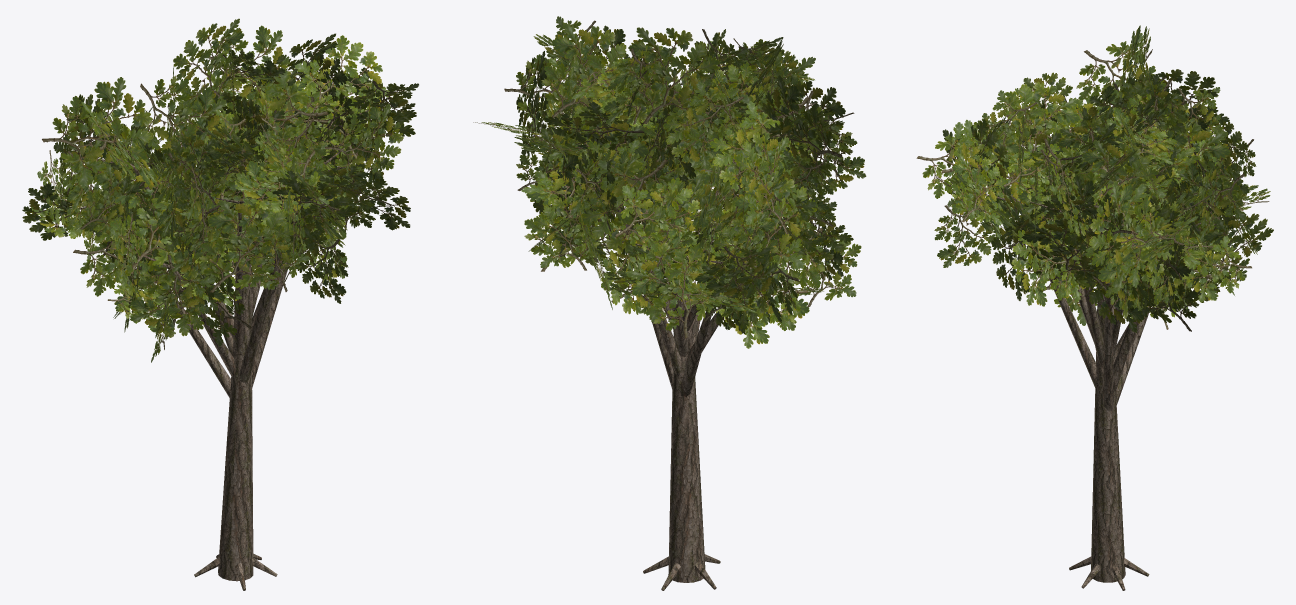
The model's file is oak-source.glb.
3 views of the same model, side by side, from view 1: azimuth 30°, elevation 25°; view 2: azimuth 150°, elevation 25°; view 3: azimuth 270°, elevation 25° (orthographic). The views are drawn at different scales.
Parts seen in each view (by area): view 1: tree; view 2: tree; view 3: tree.
Boxes of the visible parts, x1=… form: tree: x1=22, y1=18, x2=418, y2=590; tree: x1=473, y1=16, x2=866, y2=590; tree: x1=916, y1=25, x2=1273, y2=590.
Size of the model in its own units: 6.48 by 9.36 by 6.04.
2 materials, 2 textured.
